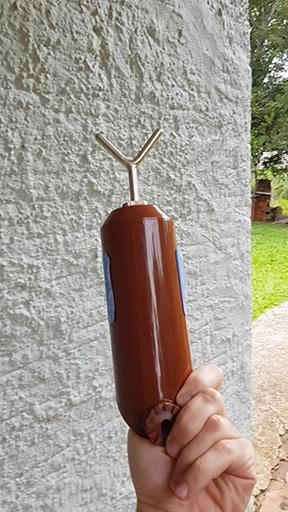Detector_Tensao_Contato: (92, 129, 194, 442)
